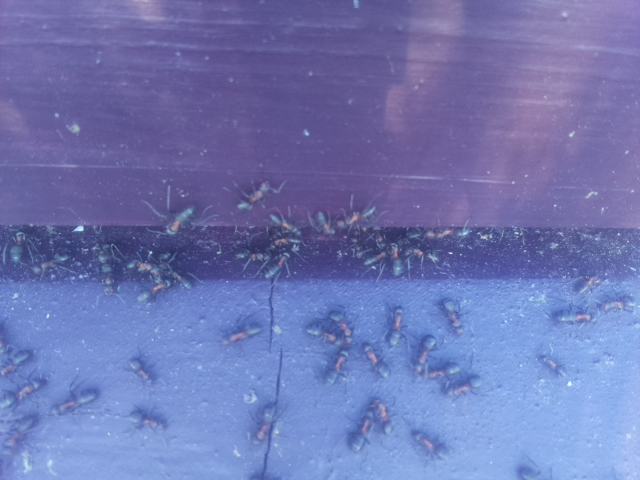ant: (259, 225, 307, 280), (343, 397, 384, 460), (304, 306, 357, 353), (44, 384, 104, 421), (406, 426, 456, 467), (0, 374, 51, 414), (158, 197, 199, 243), (331, 198, 384, 233), (247, 395, 283, 445), (233, 174, 276, 212), (363, 335, 391, 391), (439, 293, 466, 343), (27, 249, 77, 275), (133, 274, 171, 307), (223, 318, 262, 350), (413, 330, 437, 381), (385, 297, 408, 350), (384, 238, 410, 283), (307, 208, 345, 237), (95, 255, 119, 300), (323, 350, 348, 390), (0, 346, 29, 378), (7, 227, 27, 267), (126, 354, 151, 386)
